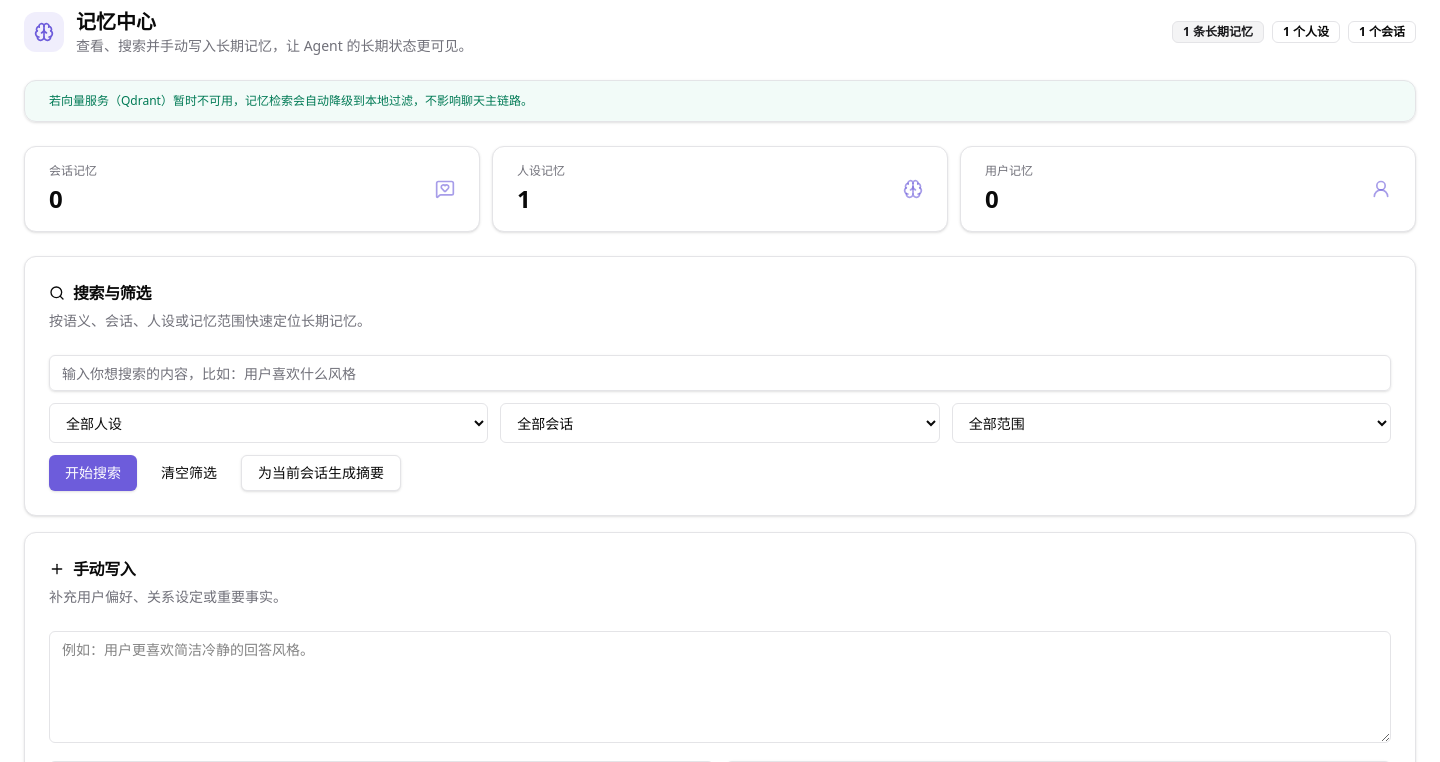
MemoryPage › supports manual long-term memory write and refreshes list
Type "用户偏好晚间交流。" into the text box with placeholder "例如：用户更喜欢简洁冷静的回答风格。".
click(720, 687); type("用户偏好晚间交流。")  # box [49,631,1391,743]
(page scrolled)
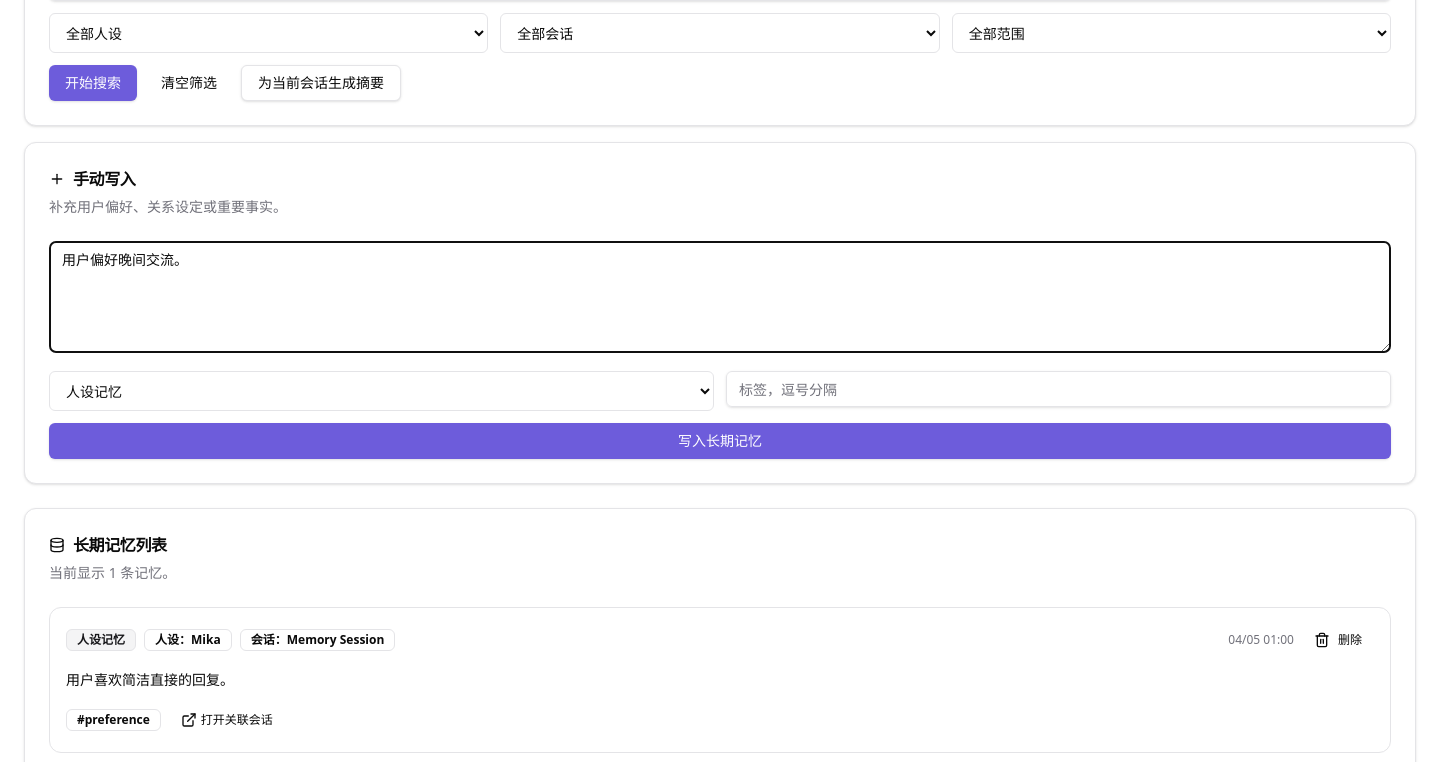
Type "manual, preference" into the field with placeholder "标签，逗号分隔".
click(1058, 389); type("manual, preference")  # box [726,371,1391,407]
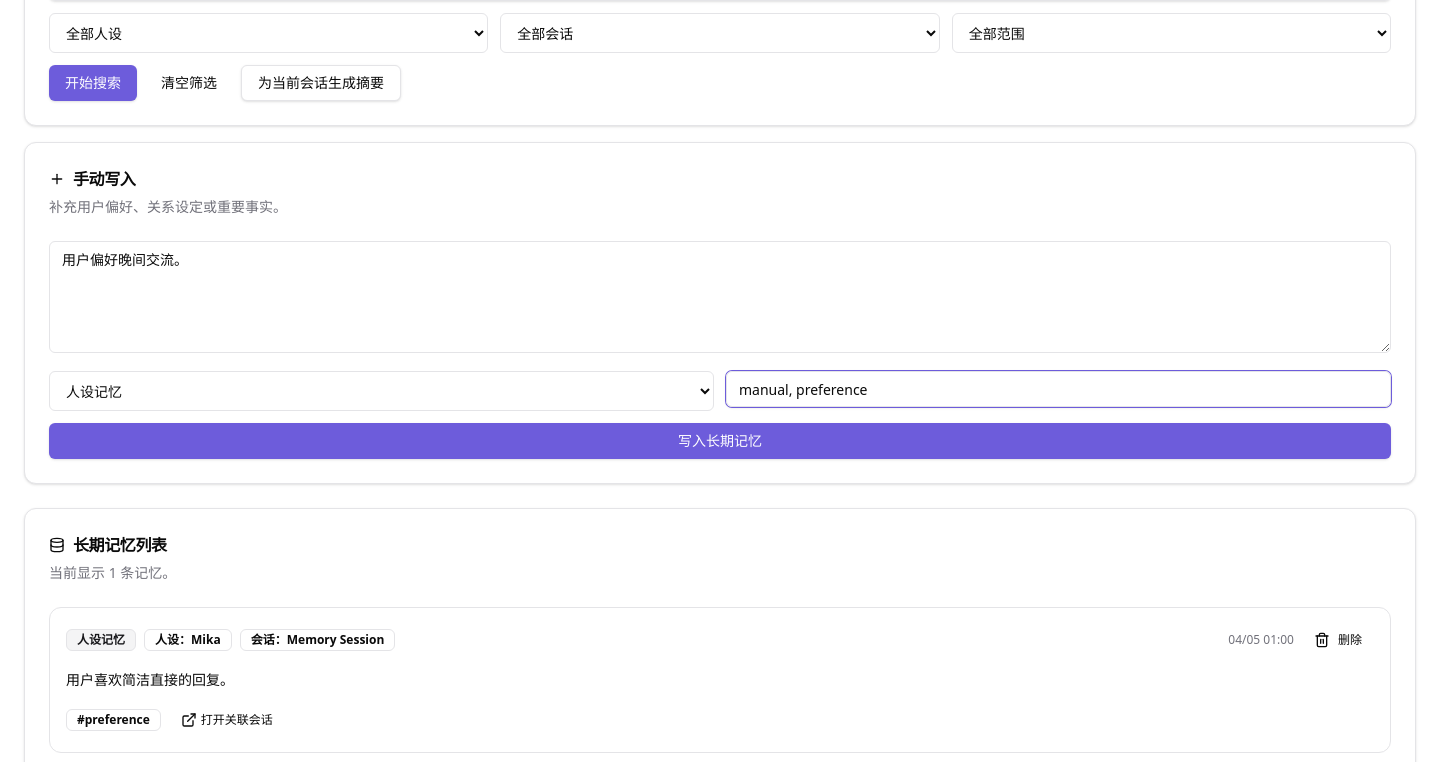
Click the button "写入长期记忆".
click(720, 441)  # box [49,423,1391,459]
(page scrolled)
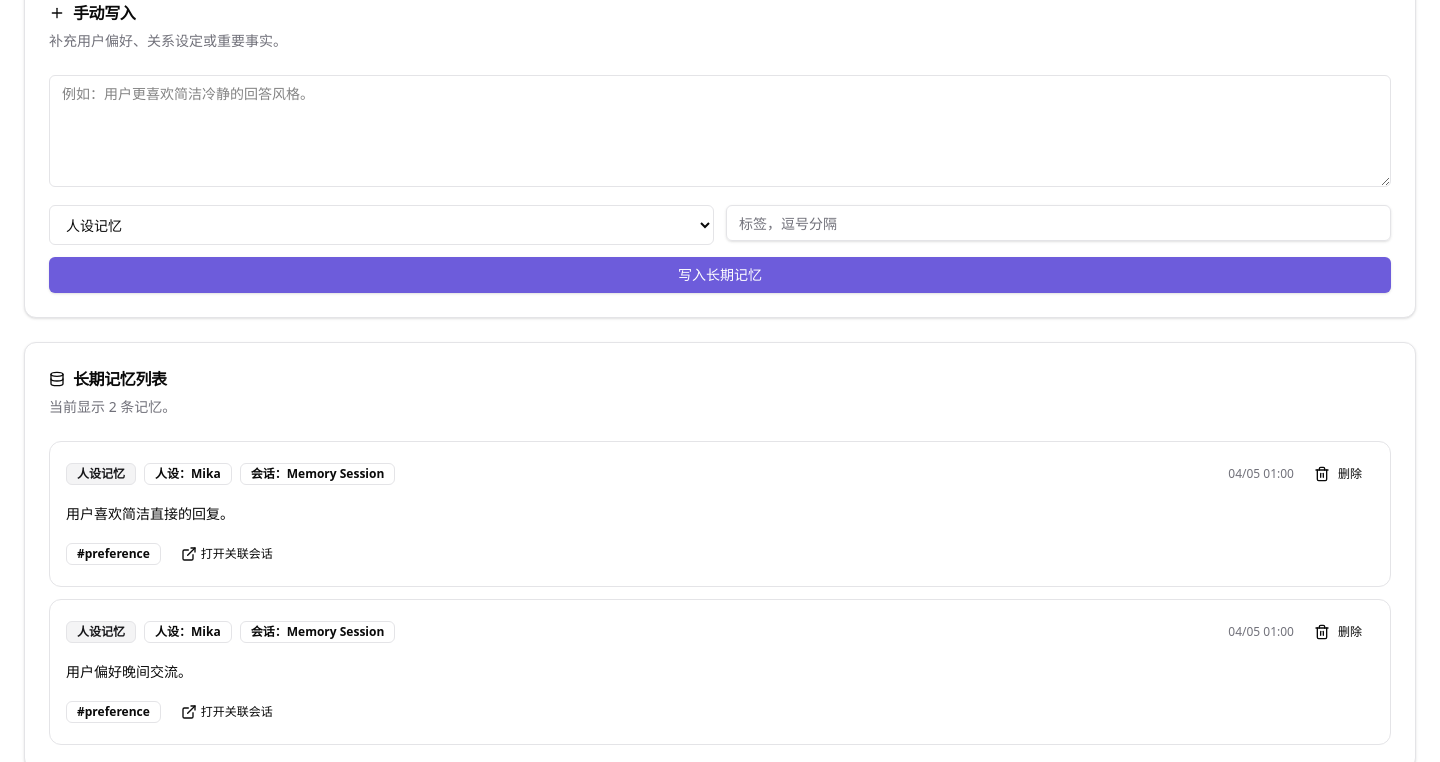
Expected: the text "用户偏好晚间交流。" is shown, [66,662,192,681]
